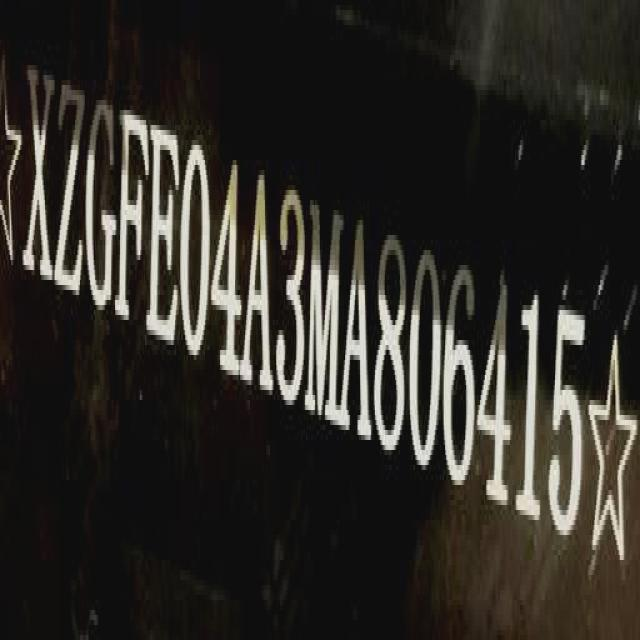0: (178, 130, 213, 372), (409, 228, 442, 474)
1: (514, 270, 546, 542)
3: (276, 172, 307, 419)
4: (477, 278, 512, 522), (210, 133, 242, 385)
5: (549, 291, 587, 554)
6: (441, 252, 476, 498)
8: (375, 222, 406, 460)
A: (339, 208, 374, 444), (242, 161, 275, 400)
E: (148, 117, 178, 365)
F: (116, 95, 148, 348)
G: (84, 82, 115, 322)
M: (305, 170, 340, 441)
X: (21, 61, 54, 304)
Z: (54, 72, 84, 322)
